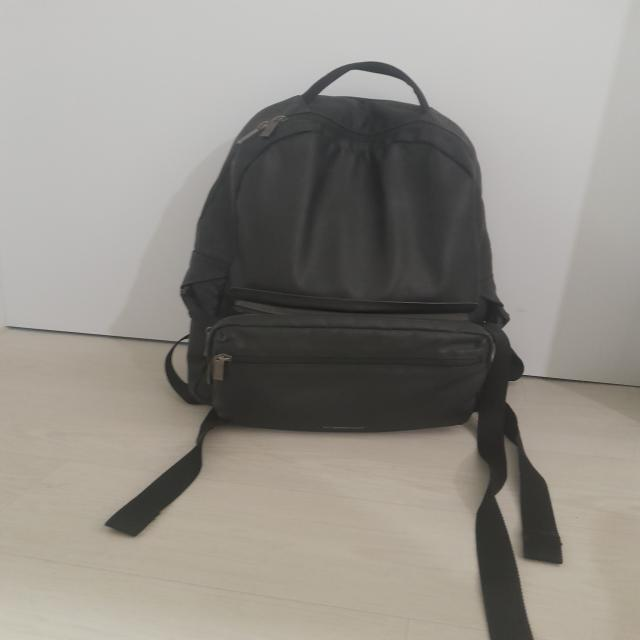backpack: (103, 64, 640, 640)
